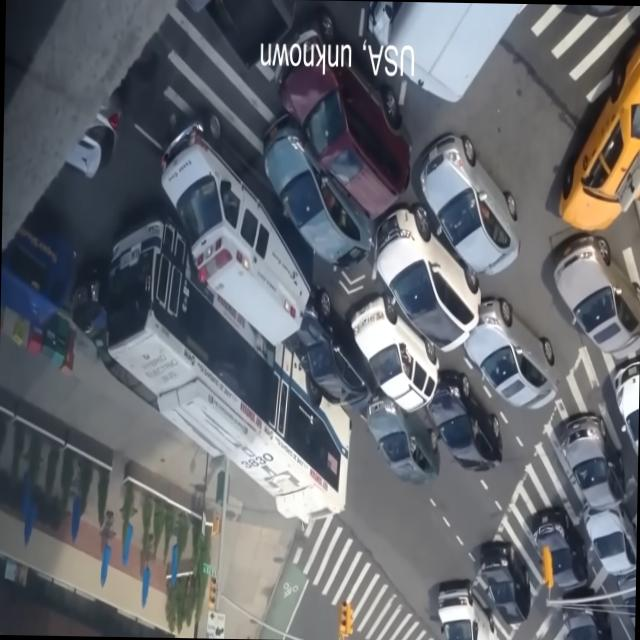ambulance: (190, 277, 300, 338)
